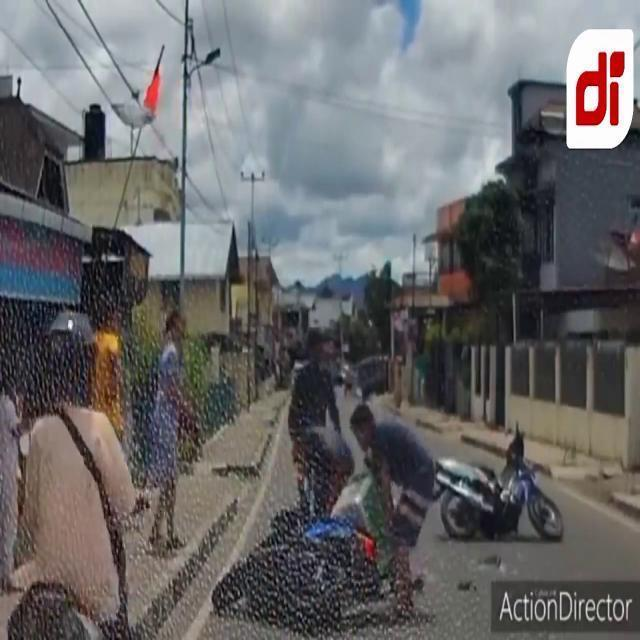accident: (214, 434, 564, 616), (214, 509, 376, 619), (433, 435, 562, 539)
